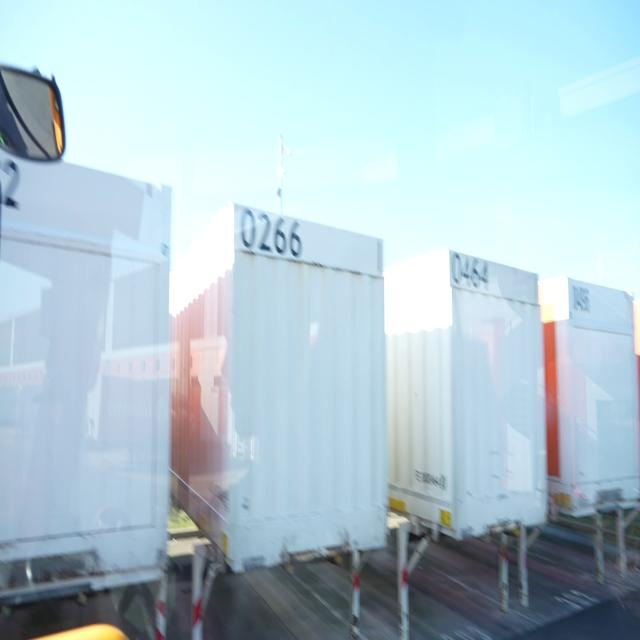Code: (236, 199, 302, 265), (450, 247, 496, 301)
